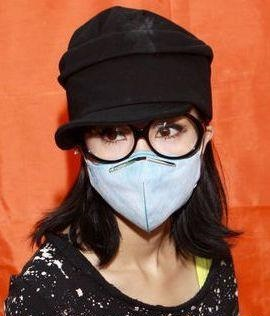face_mask: (82, 67, 200, 229)
